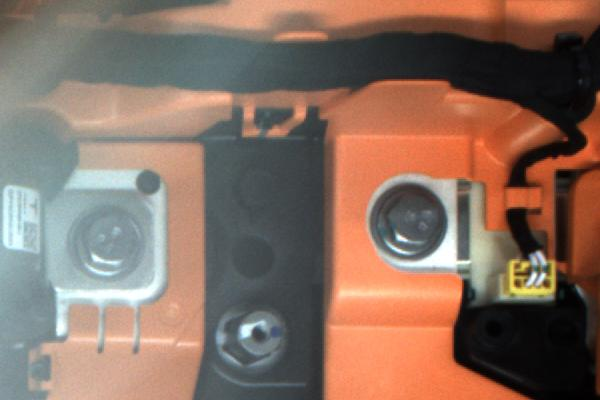nut_b: (366, 185, 454, 262), (61, 205, 146, 278)
